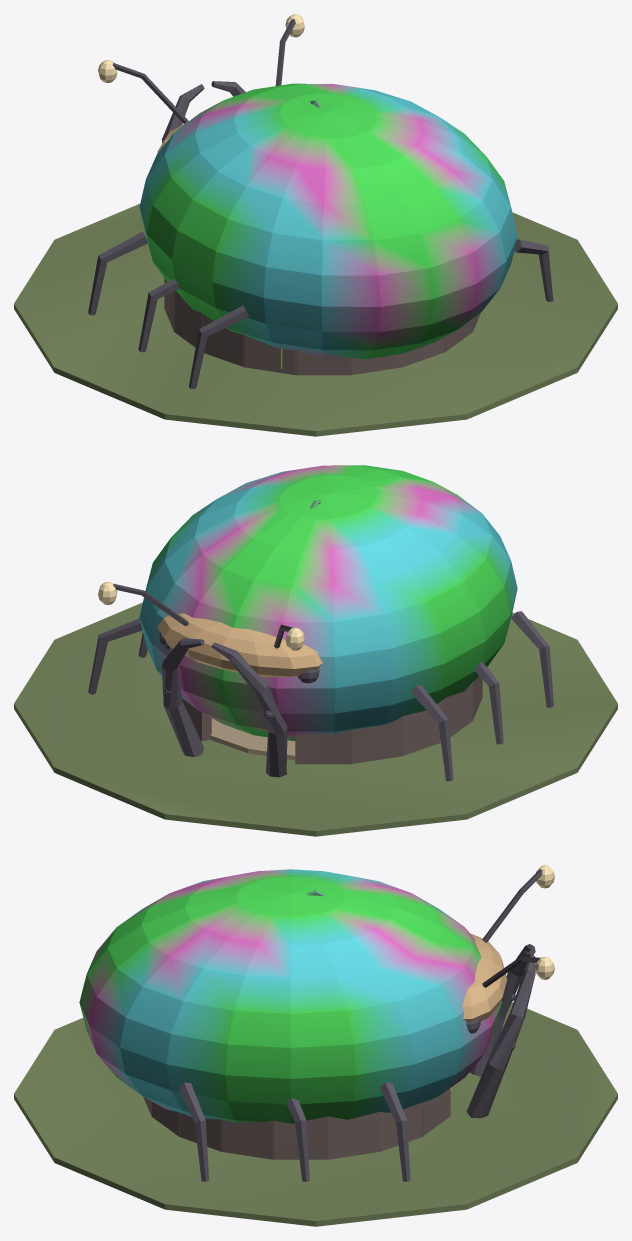
The model's file is BeetleShellHouse.fbx.
3 views of the same model, one above another, from view 1: azimuth 30°, elevation 25°; view 2: azimuth 150°, elevation 25°; view 3: azimuth 270°, elevation 25° (orthographic).
Visible parts, largest first — view 1: Bld_BeetleShellHouse_Roof, Bld_BeetleShellHouse; view 2: Bld_BeetleShellHouse, Bld_BeetleShellHouse_Roof; view 3: Bld_BeetleShellHouse_Roof, Bld_BeetleShellHouse.
Part boxes in pixels (<box>): Bld_BeetleShellHouse_Roof: <box>139,83,517,359</box>; Bld_BeetleShellHouse: <box>14,14,617,436</box>; Bld_BeetleShellHouse: <box>14,582,617,836</box>; Bld_BeetleShellHouse_Roof: <box>139,465,517,740</box>; Bld_BeetleShellHouse_Roof: <box>79,869,502,1123</box>; Bld_BeetleShellHouse: <box>14,865,617,1226</box>.
Bounding box in the file's own units: 12 × 4.86 × 12.
